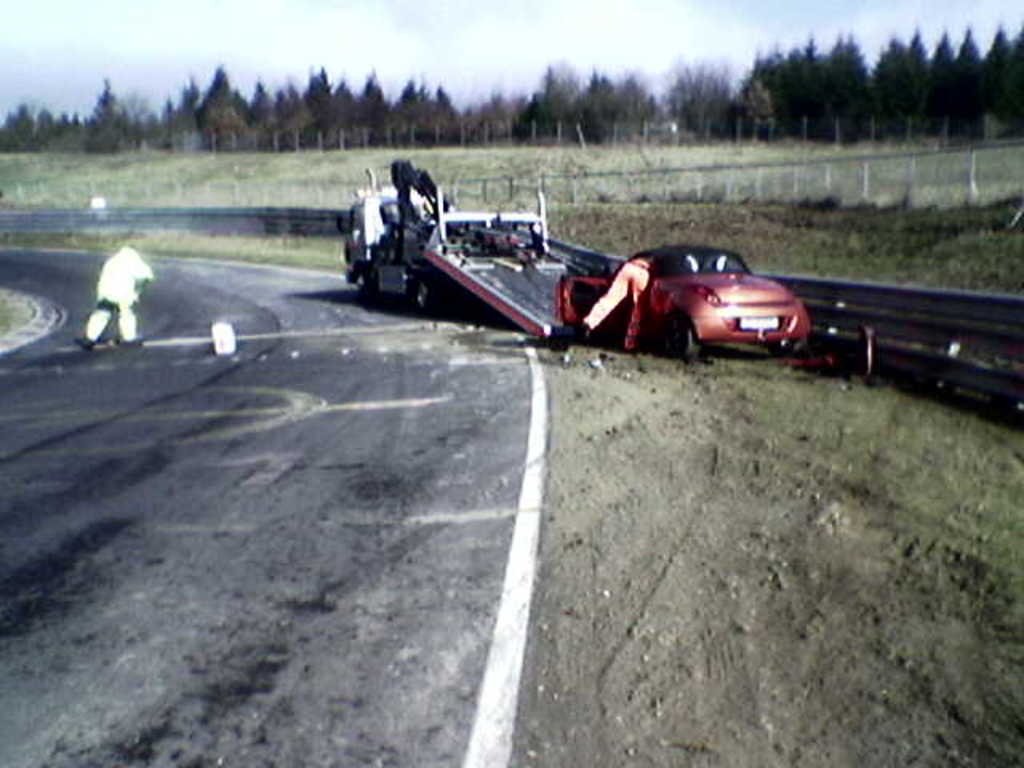cars: (547, 232, 832, 356)
